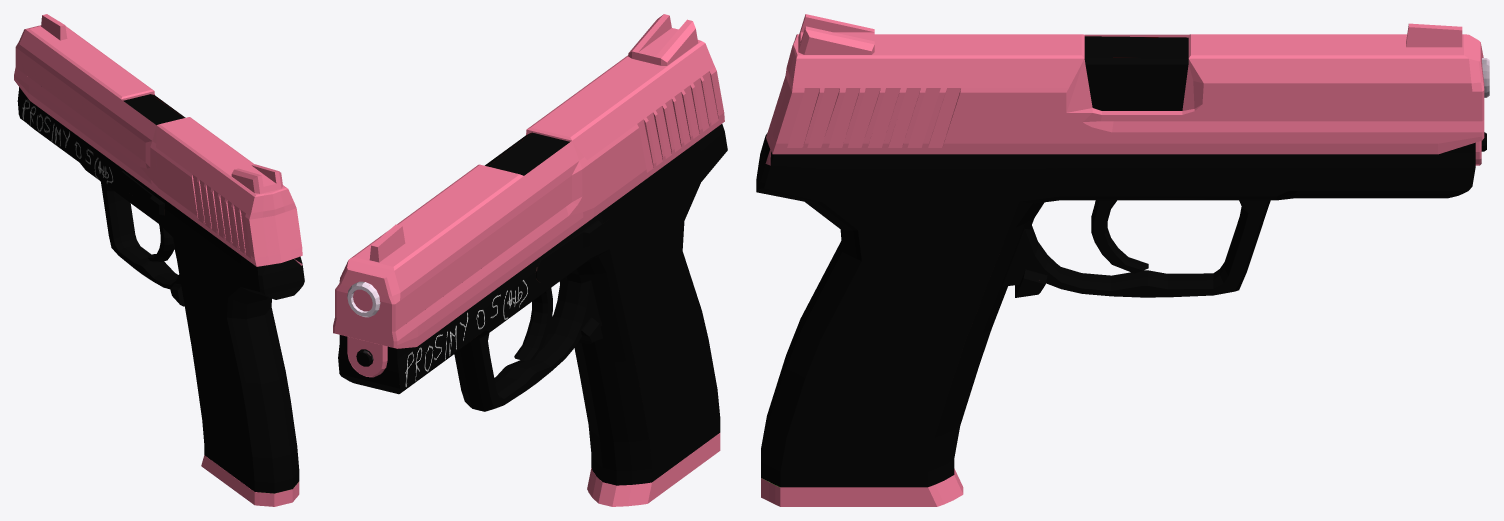
The model's file is PISTOLETPINK.glb.
The picture shows the model from 3 angles, left to right: view 1: azimuth 30°, elevation 25°; view 2: azimuth 150°, elevation 25°; view 3: azimuth 270°, elevation 25°; orthographic projection. The views are drawn at different scales.
Visible parts, largest first — view 1: Cube.001, Cube, Cube.003, Cube.002; view 2: Cube.001, Cube, Cube.002, Cube.003; view 3: Cube.001, Cube, Cube.002, Cube.003.
Part boxes in pixels (<box>): Cube.001: <box>17,87,304,493</box>; Cube: <box>14,14,302,266</box>; Cube.003: <box>201,455,299,506</box>; Cube.002: <box>123,94,185,125</box>; Cube.001: <box>338,124,727,485</box>; Cube: <box>333,14,724,377</box>; Cube.002: <box>347,132,569,317</box>; Cube.003: <box>587,433,720,506</box>; Cube.001: <box>756,132,1486,487</box>; Cube: <box>766,14,1484,165</box>; Cube.002: <box>1084,36,1489,110</box>; Cube.003: <box>761,468,963,506</box>.
Size of the model in its own units: 0.8479 by 5.15 by 7.3.
Materials: 4 (4 with a texture image).
